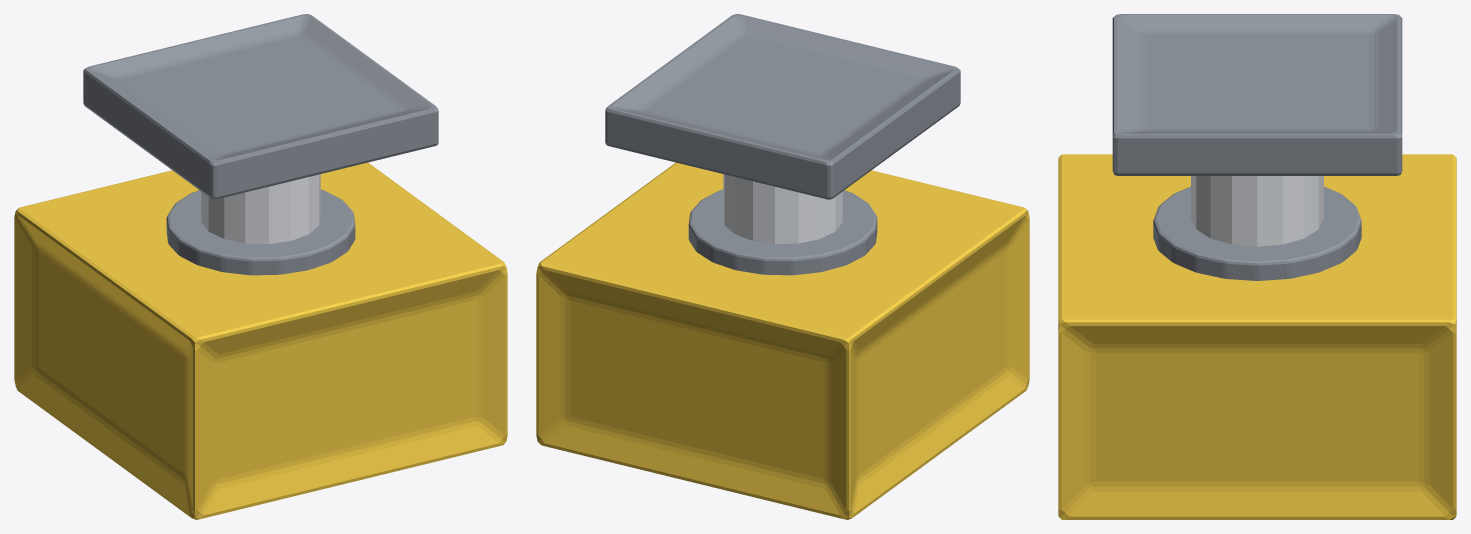
File: piston.glb
3 renders of one model, left to right at view 1: azimuth 30°, elevation 25°; view 2: azimuth 150°, elevation 25°; view 3: azimuth 270°, elevation 25°, orthographic. The views are drawn at different scales.
Parts seen in each view (by area): view 1: piston; view 2: piston; view 3: piston.
Boxes of the visible parts, x1,y1,x2,y2 form: piston: (14,14,507,519); piston: (536,14,1029,519); piston: (1058,14,1456,519).
Size of the model in its own units: 0.9912 by 0.996 by 0.9912.
